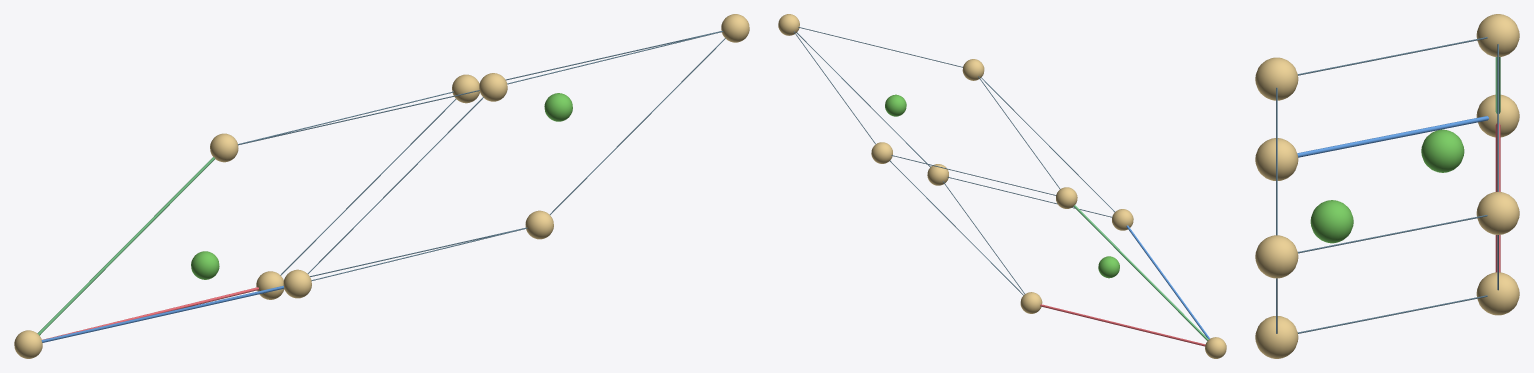
Rendered from chat-cadmium-chloride.glb.
3 views of the same model, side by side, from view 1: azimuth 30°, elevation 25°; view 2: azimuth 150°, elevation 25°; view 3: azimuth 270°, elevation 25° (orthographic). The views are drawn at different scales.
Parts seen in each view (by area): view 1: Ô mạng và các trục a, b, c, Cd · Cd · 1 (×8), Cl · Cl · 1 (×2); view 2: Ô mạng và các trục a, b, c, Cd · Cd · 1 (×8), Cl · Cl · 1 (×2); view 3: Cd · Cd · 1 (×8), Ô mạng và các trục a, b, c, Cl · Cl · 1 (×2).
Part boxes in pixels (<box>): Ô mạng và các trục a, b, c: <box>37,31,725,342</box>; Cd · Cd · 1 (×8): <box>14,14,749,358</box>; Cl · Cl · 1 (×2): <box>191,93,572,279</box>; Ô mạng và các trục a, b, c: <box>793,27,1209,346</box>; Cd · Cd · 1 (×8): <box>778,14,1226,358</box>; Cl · Cl · 1 (×2): <box>885,94,1119,278</box>; Cd · Cd · 1 (×8): <box>1255,14,1519,358</box>; Ô mạng và các trục a, b, c: <box>1276,37,1500,333</box>; Cl · Cl · 1 (×2): <box>1310,129,1464,243</box>.
Bounding box in the file's own units: 16.95 × 5.94 × 3.92.
